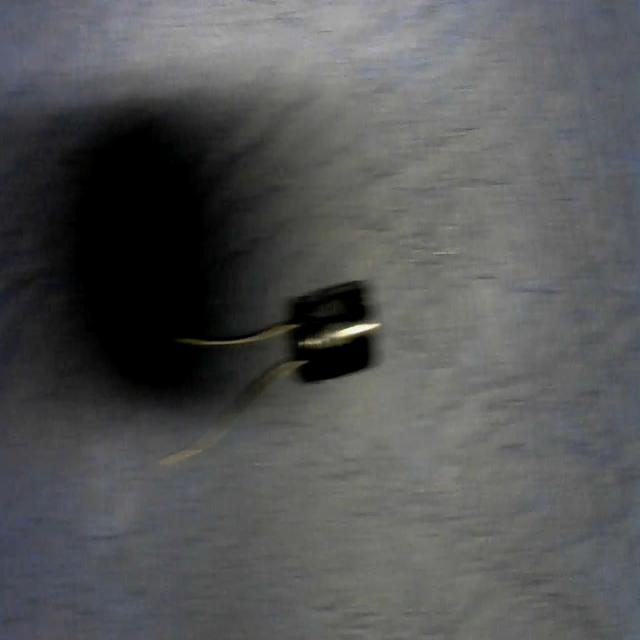capacitor: (152, 277, 380, 460)
